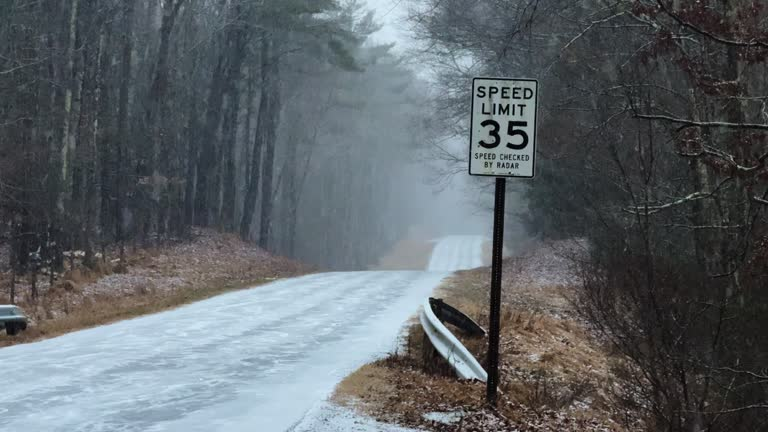SpeedLimitSign: (468, 76, 537, 179)
